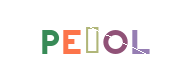1: (58, 0, 138, 80)
E: (29, 0, 109, 80)
L: (75, 0, 155, 80)
O: (69, 0, 149, 80)
P: (9, 0, 89, 80)
